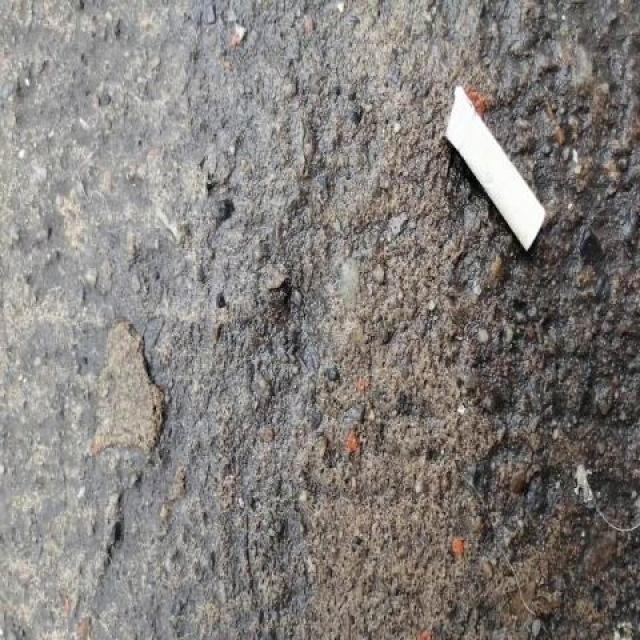non-organic waste: (439, 81, 553, 263)
